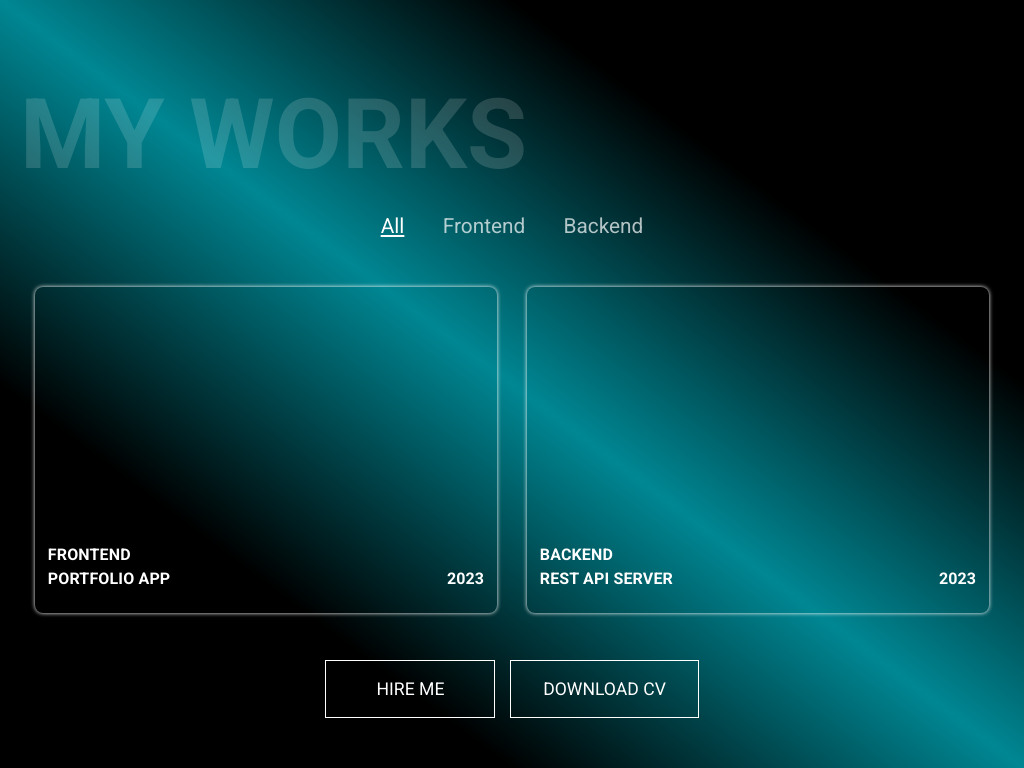
Works — integration tests › Hire Me button → ModalHireMe › opens ModalHireMe
The width and height of the screenshot is (1024, 768).
Click the button "Hire Me" at x=410, y=689, box top-left (326, 660), bottom-right (496, 718)
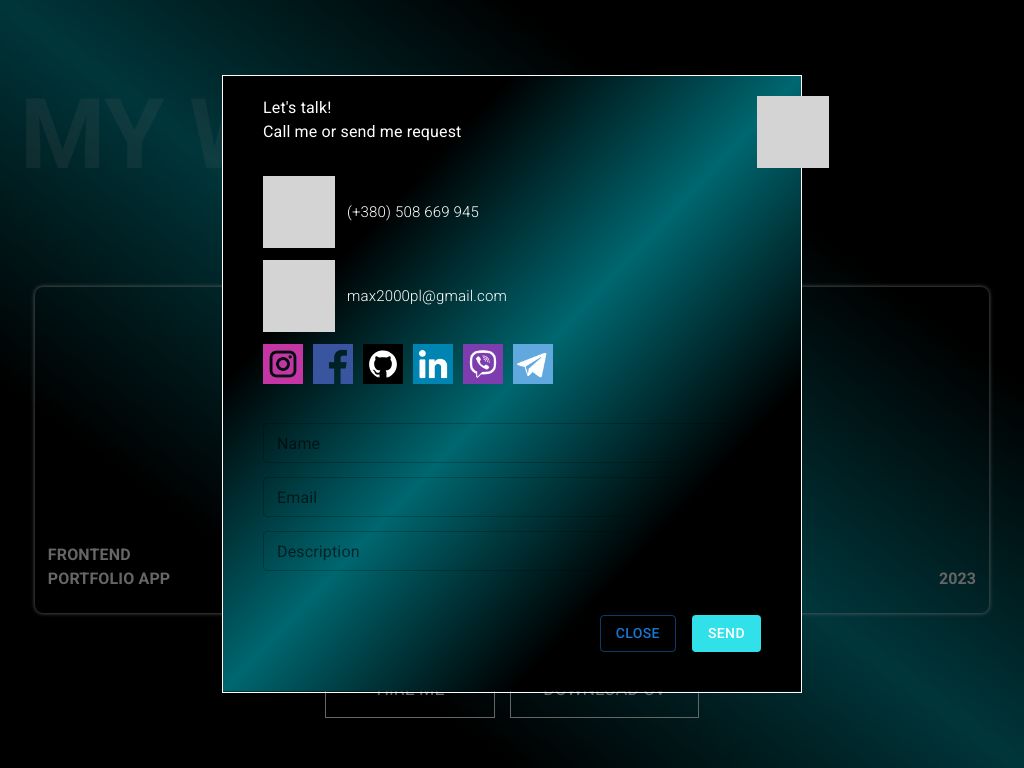
Now the text "Let's talk!" is shown, box top-left (263, 98), bottom-right (332, 118)
Now the field labelled "Name" is shown, box top-left (263, 423), bottom-right (761, 463)
Now the field labelled "Email" is shown, box top-left (263, 477), bottom-right (761, 517)
